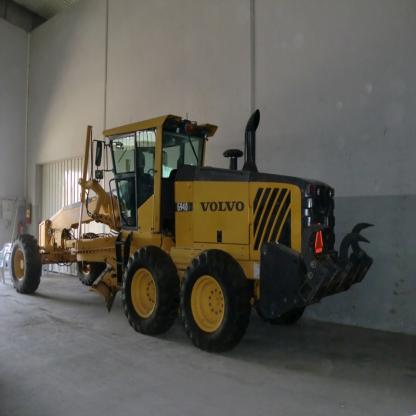bull_dozer/loader/grader: (3, 104, 366, 358)
